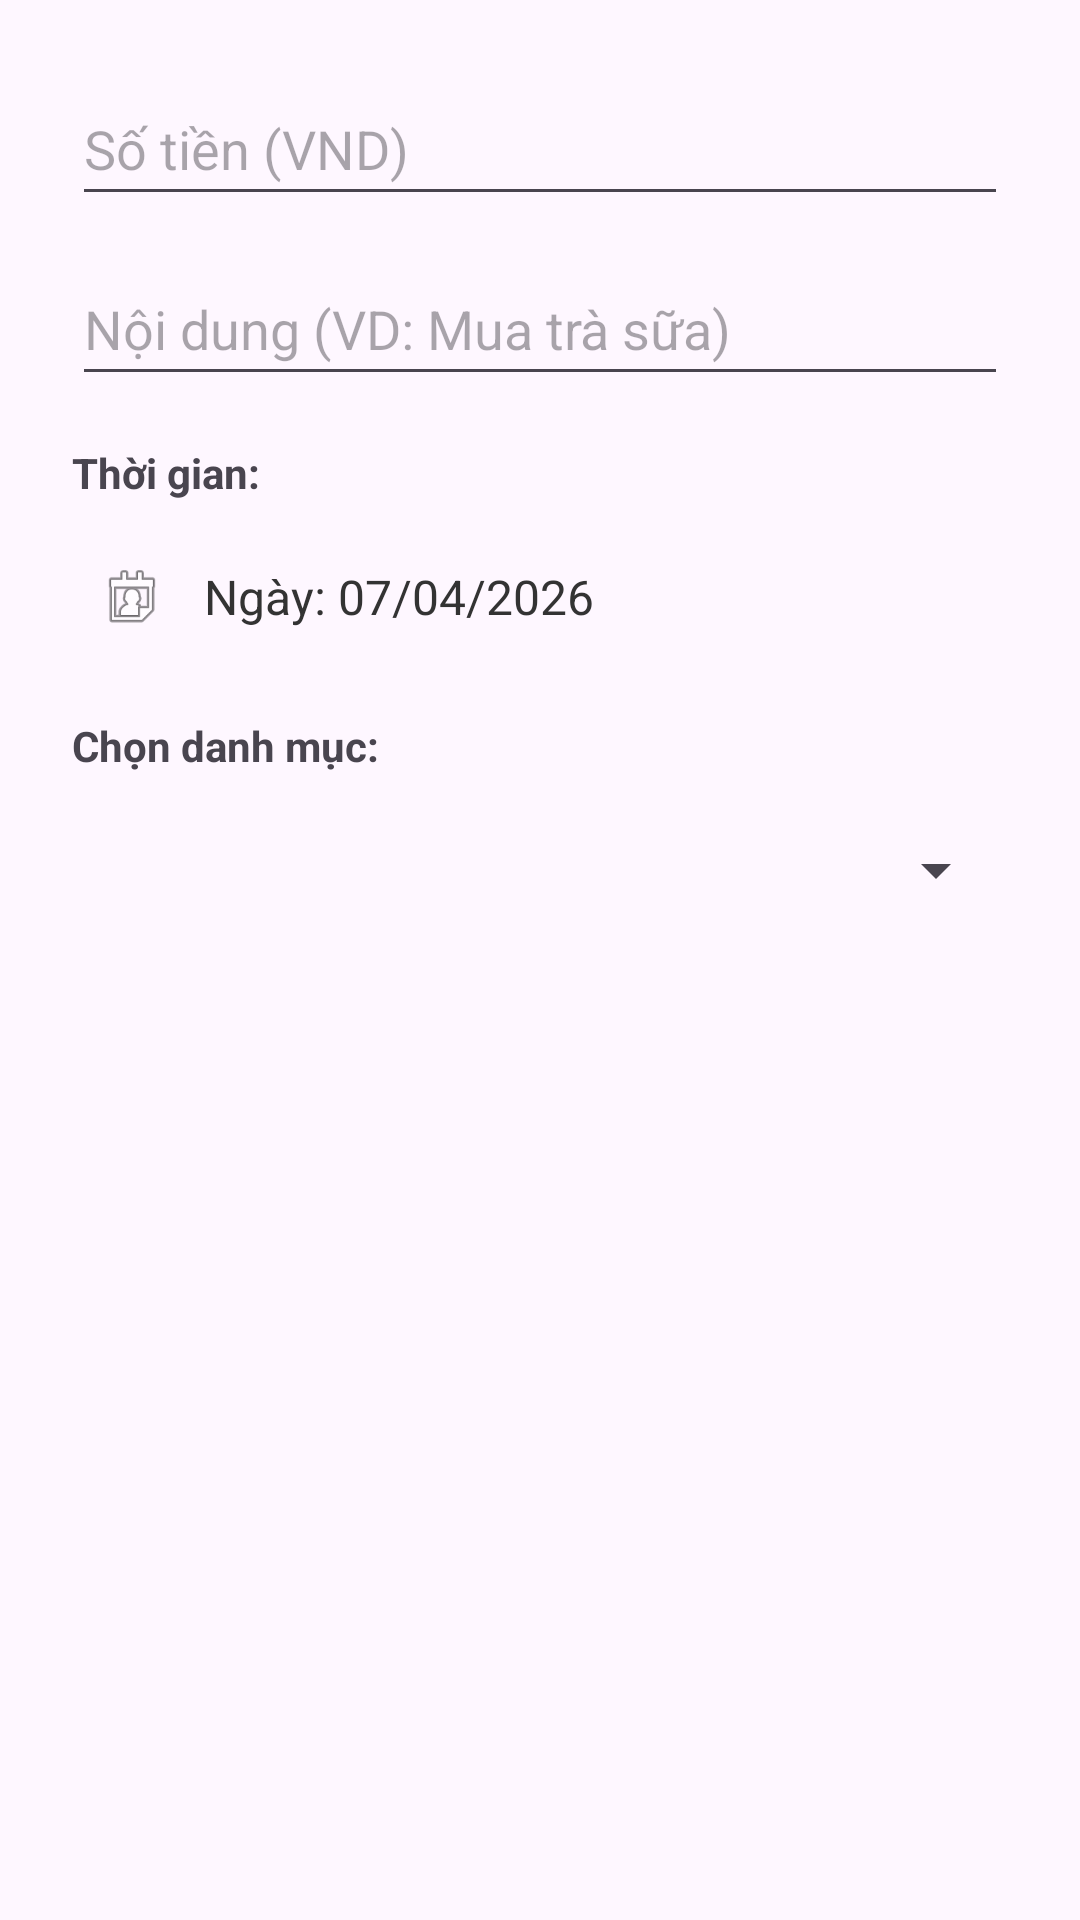

Named icons in this screenshot (1080×1920) and their centers, (x=x, y=y):
Icon lịch: (x=132, y=596)
